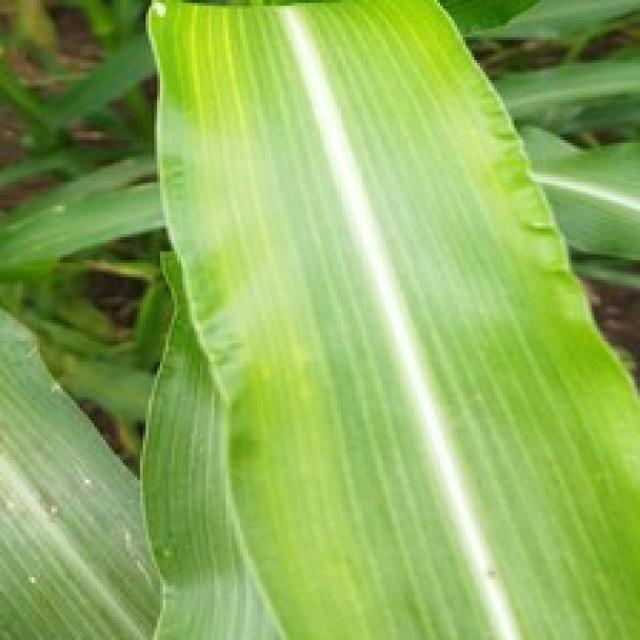Corn: (137, 0, 637, 637), (0, 0, 163, 637)
